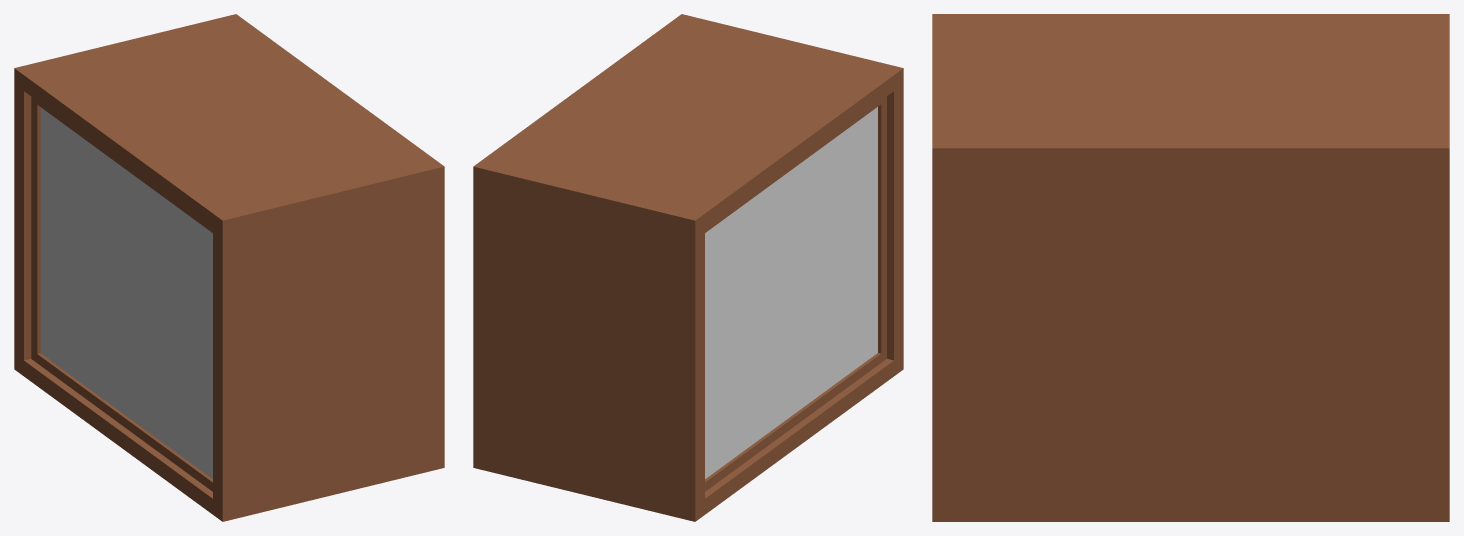
Rendered from Rak Interact.fbx.
The picture shows the model from 3 angles, left to right: view 1: azimuth 30°, elevation 25°; view 2: azimuth 150°, elevation 25°; view 3: azimuth 270°, elevation 25°; orthographic projection. The views are drawn at different scales.
Visible parts, largest first — view 1: Cube.001, Cube.002; view 2: Cube.001, Cube.002; view 3: Cube.001.
Boxes of the visible parts, x1,y1,x2,y2 form: Cube.001: (14, 14, 444, 521); Cube.002: (31, 97, 212, 491); Cube.001: (473, 14, 903, 521); Cube.002: (705, 96, 886, 491); Cube.001: (932, 14, 1449, 521).
Size of the model in its own units: 76.68 by 99.46 by 125.
Materials: 1 (1 with a texture image).
